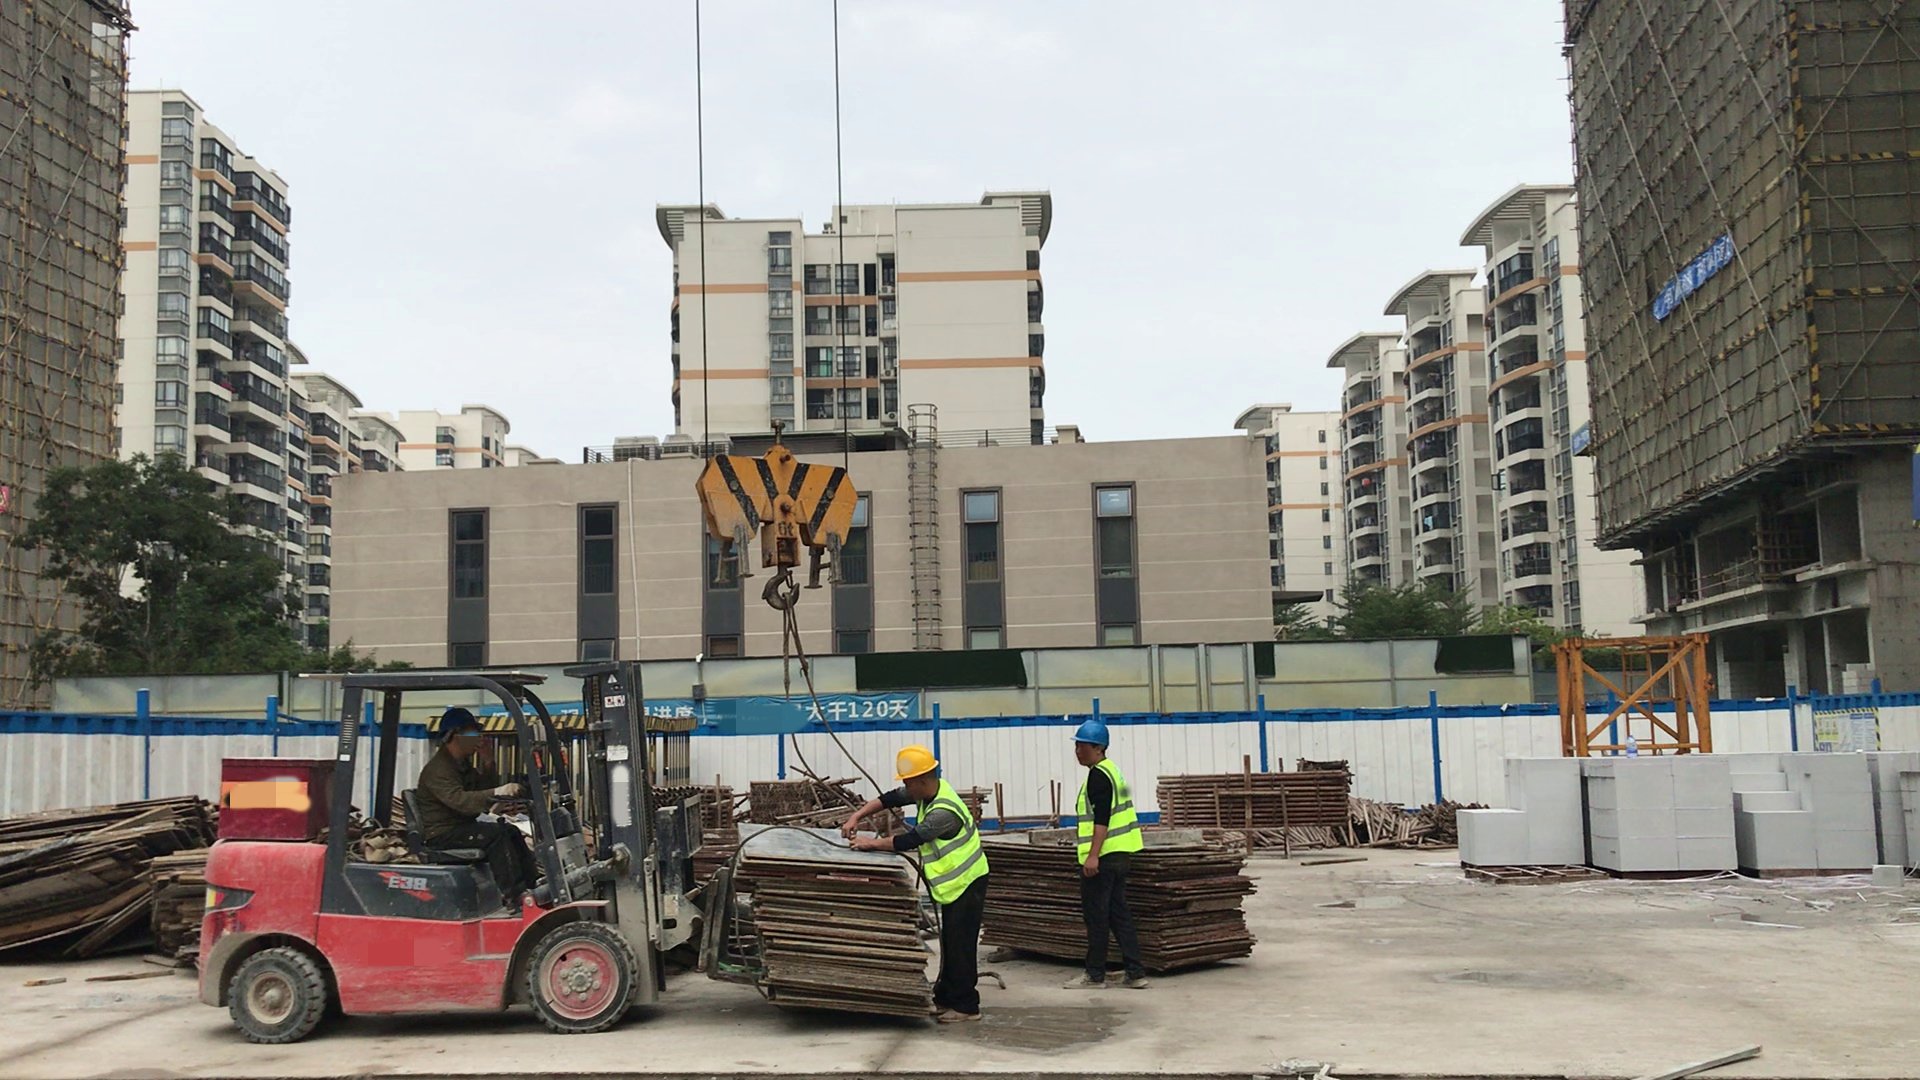board: (731, 810, 933, 1024), (989, 828, 1255, 979)
brick: (1457, 754, 1920, 878)
helmet: (893, 745, 940, 782), (437, 708, 482, 738), (1075, 721, 1109, 747)
hook: (694, 443, 866, 613)
person: (843, 741, 992, 1024), (410, 705, 544, 905), (1060, 722, 1154, 990)
scaffold: (1162, 770, 1348, 834)
slogan: (550, 691, 914, 730), (1657, 236, 1732, 319)
vest: (905, 781, 989, 900), (1077, 757, 1144, 862)
